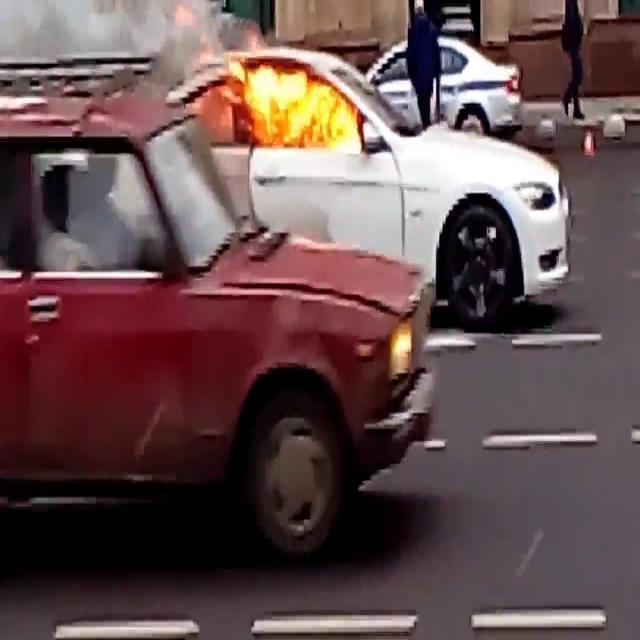Fire: (213, 49, 365, 152)
